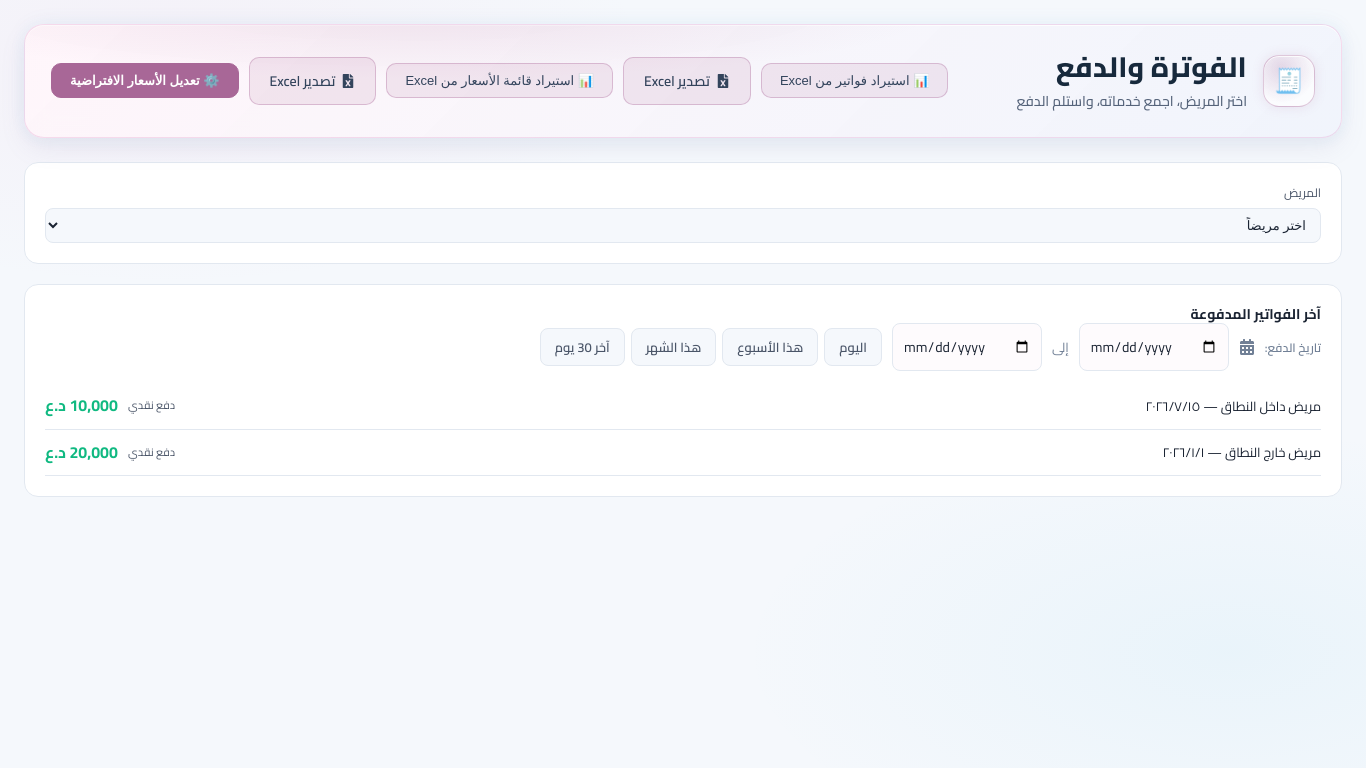
Test: BillingPage — Recent Paid Invoices date filter › an out-of-range window shows the empty state, and clearing restores the full list
The width and height of the screenshot is (1366, 768).
In the date field named "من تاريخ": (1154, 347) x1=1079 y1=323 x2=1229 y2=371, type "2020-01-01"
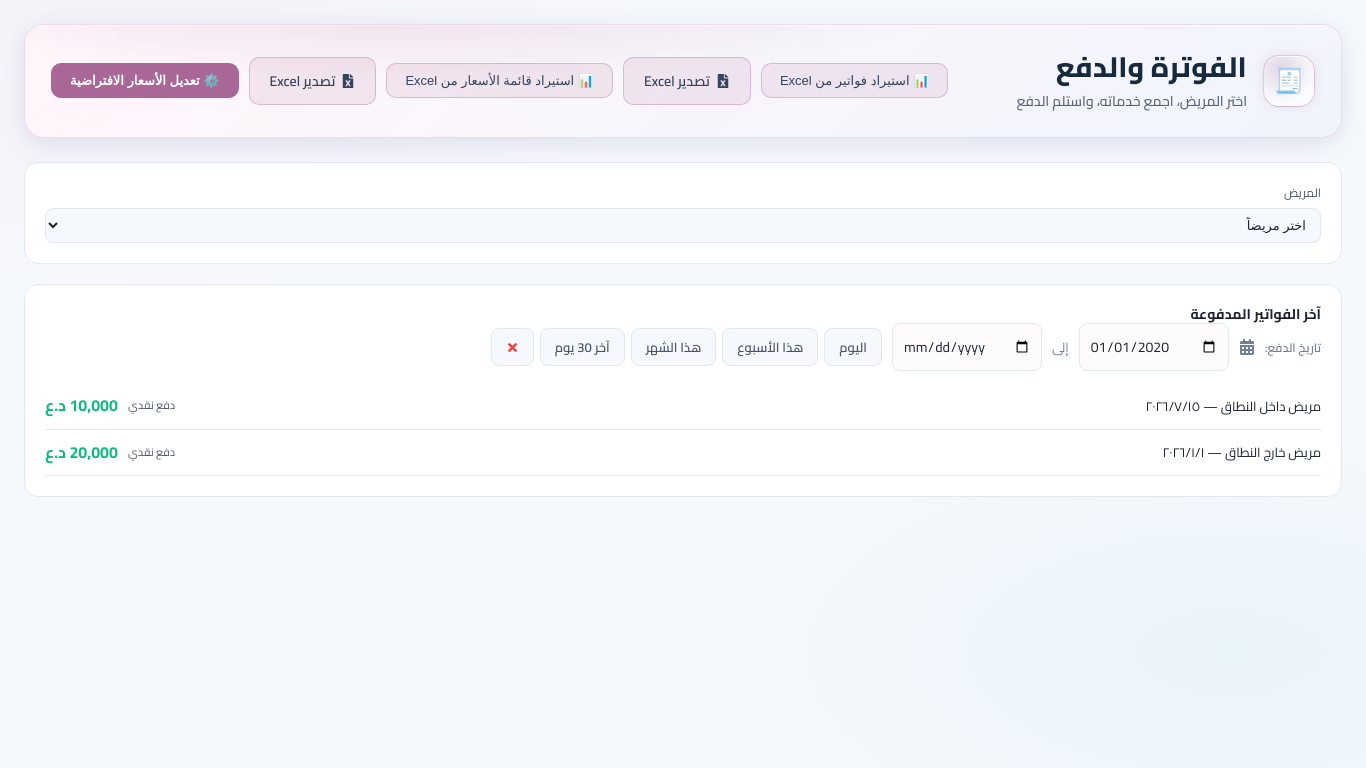
In the date field named "إلى تاريخ": (967, 347) x1=892 y1=323 x2=1042 y2=371, type "2020-01-31"
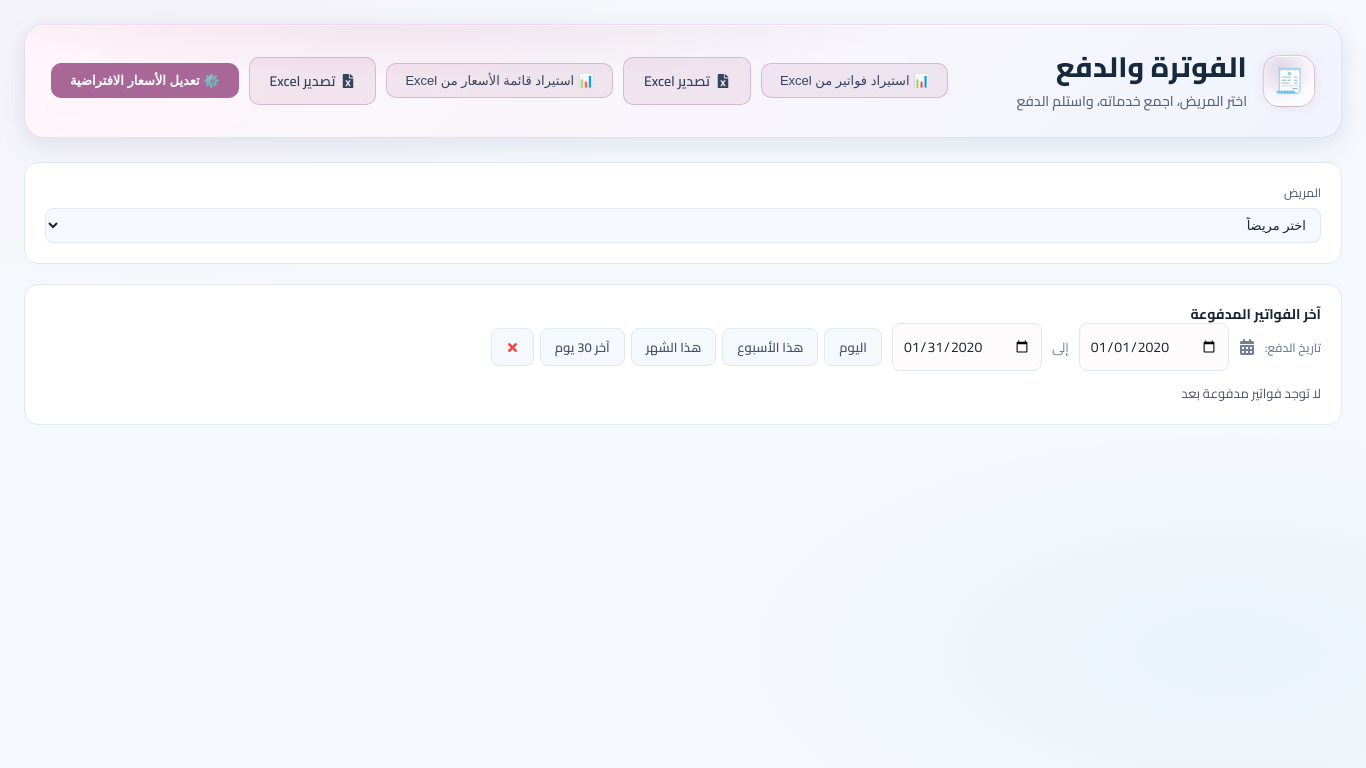
Result: the text "لا توجد فواتير مدفوعة بعد" is shown at x1=1181 y1=381 x2=1321 y2=405
Click the button titled "مسح فلتر التاريخ": click(512, 347) x1=491 y1=328 x2=534 y2=366
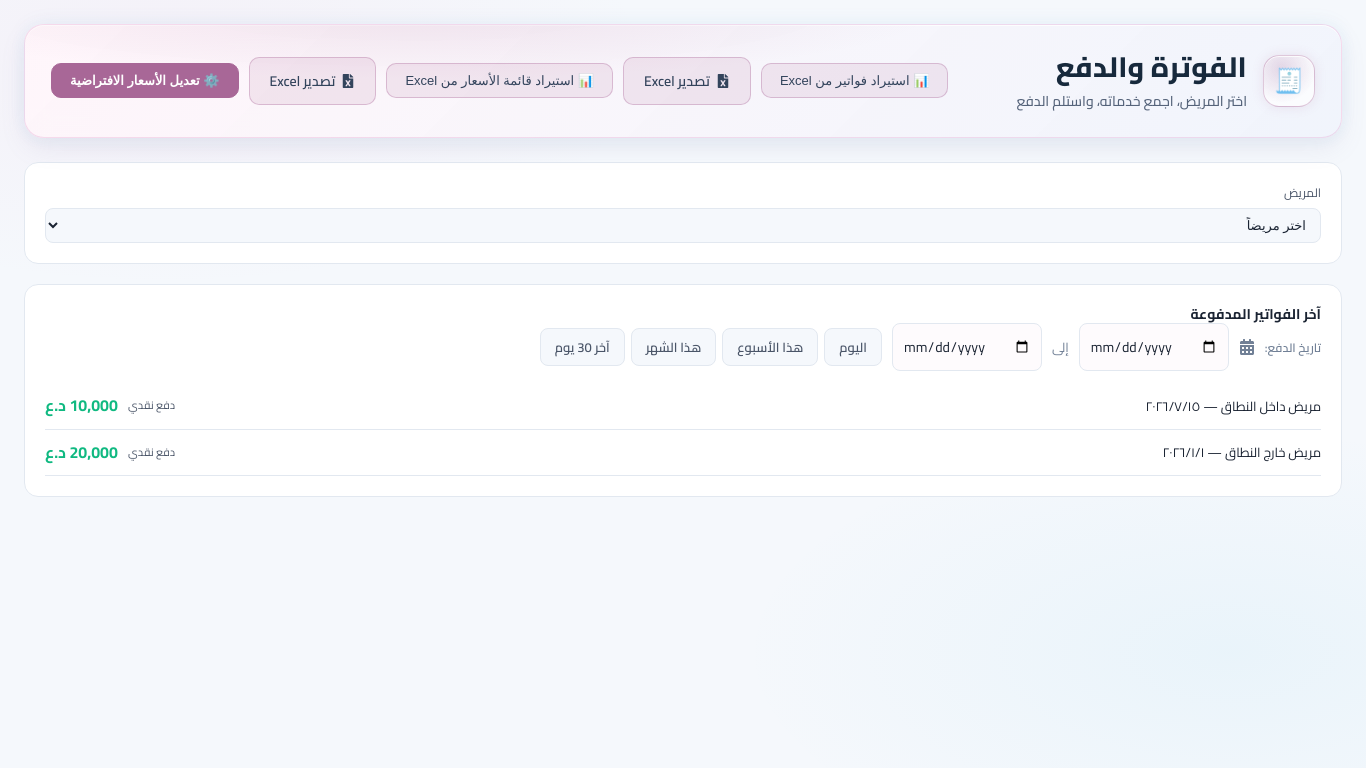
Result: the text "مريض داخل النطاق — ١٥ /٧ /٢٠٢٦" is shown at x1=1145 y1=396 x2=1321 y2=416
Result: the text "مريض خارج النطاق — ١ /١ /٢٠٢٦" is shown at x1=1162 y1=442 x2=1321 y2=463
